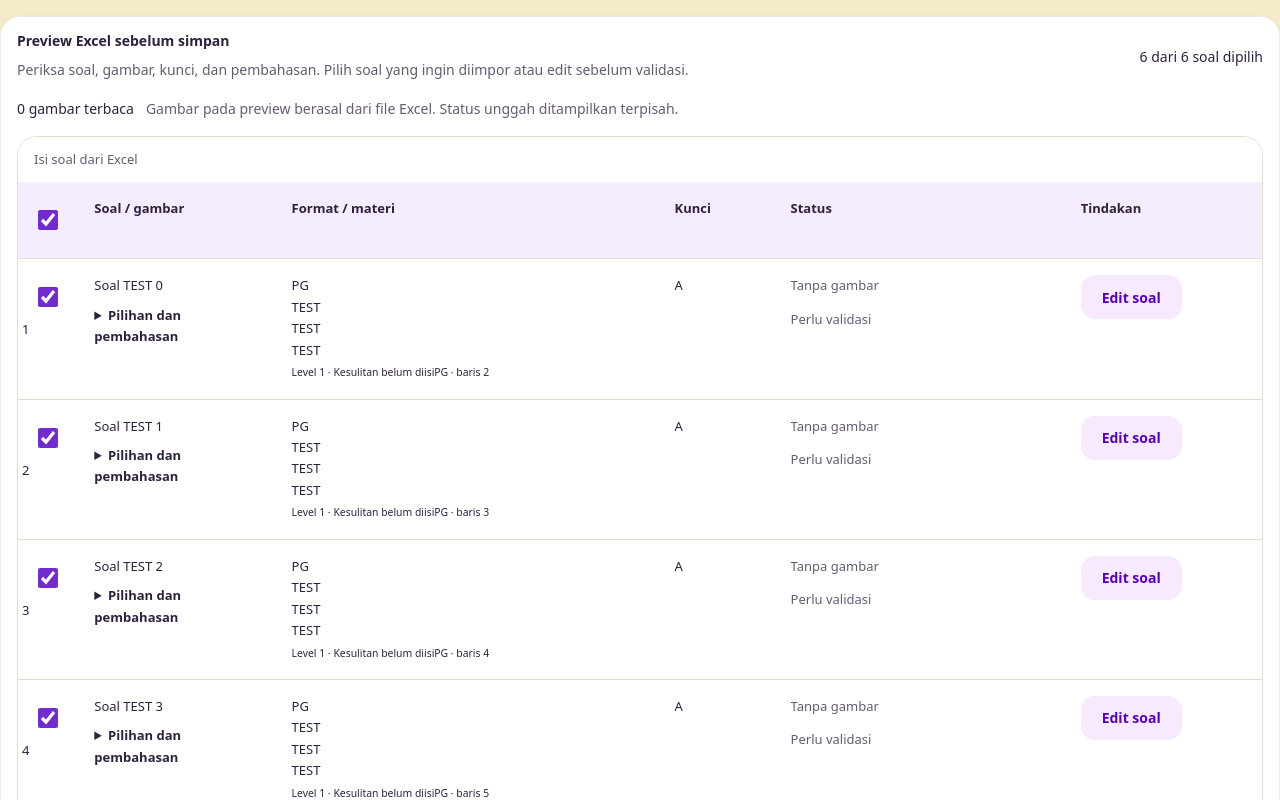
Test case: pages five Excel questions while retaining selections and protecting an open edit
The width and height of the screenshot is (1280, 800).
Click the checkbox named "Pilih soal TEST-0".
click(48, 297)  # box [38,287,58,307]
(page scrolled)
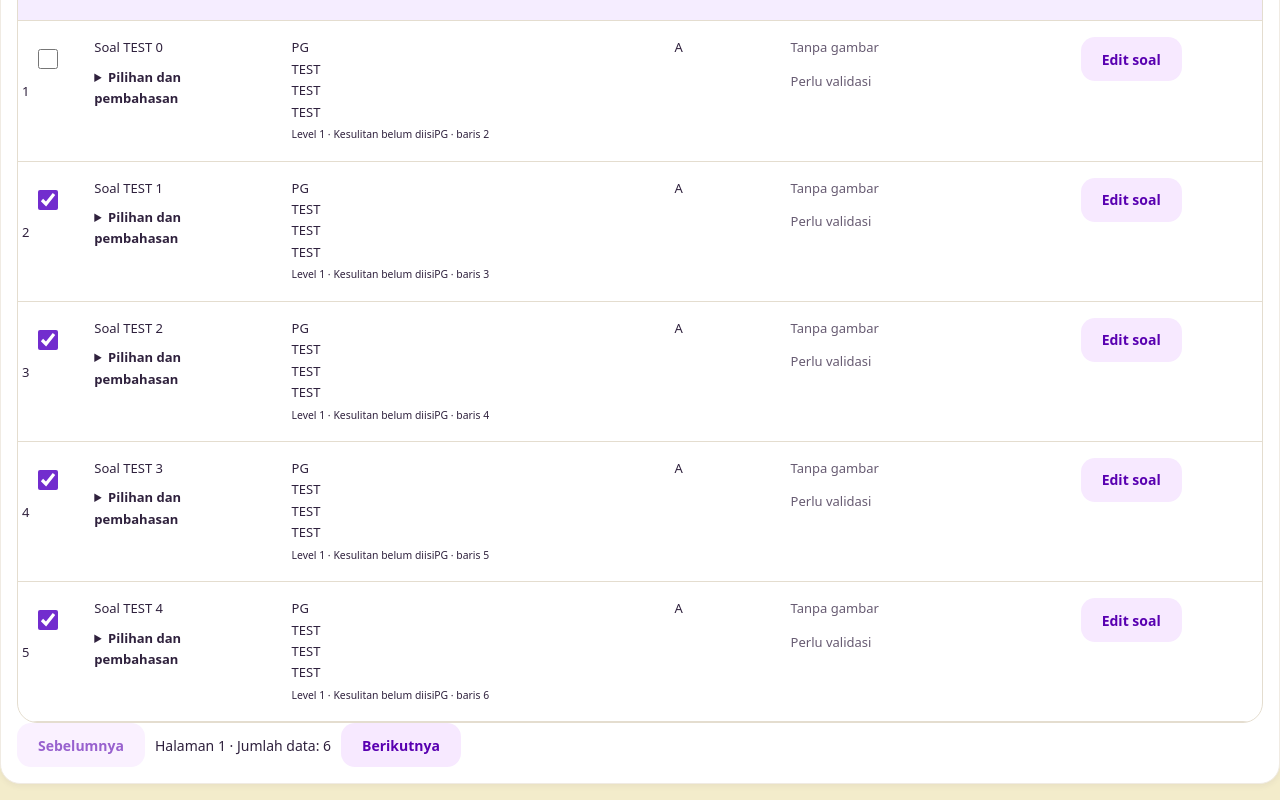
Click the button "Berikutnya".
click(401, 745)  # box [341,723,461,767]
(page scrolled)
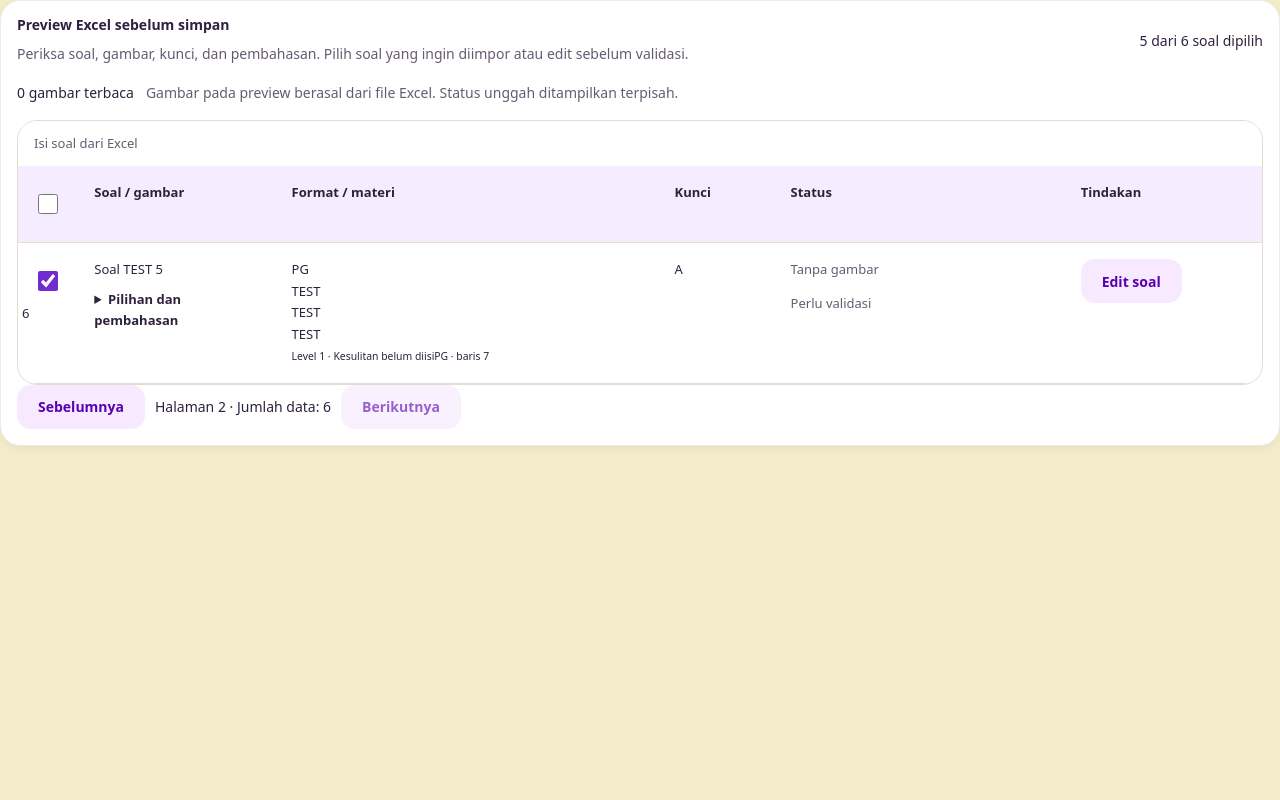
expect the number of buttons named "Edit soal TEST-" is 1: met
expect the checkbox named "Pilih soal TEST-5" is checked: met, box [38,271,58,291]
Click the button with aria-label "Edit soal TEST-5".
click(1131, 281)  # box [1081,259,1182,303]
(page scrolled)
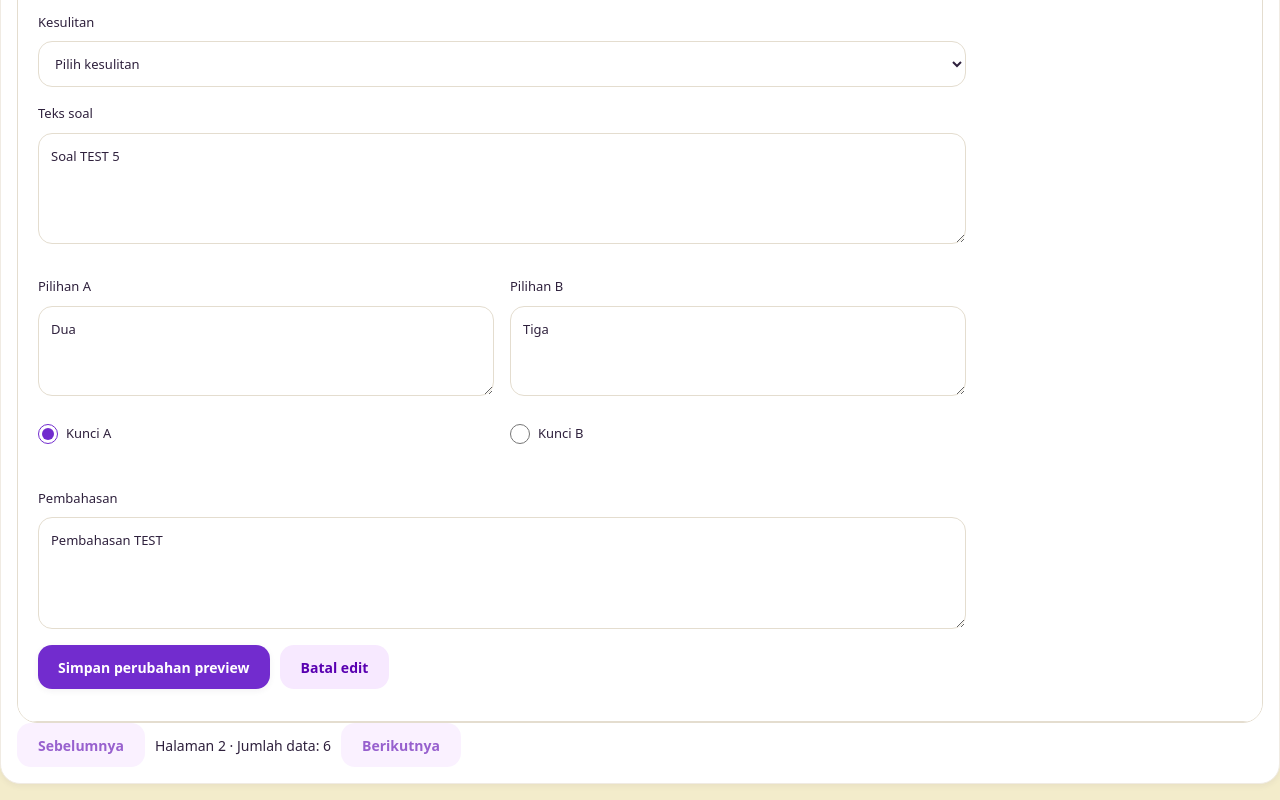
expect the button "Sebelumnya" is disabled: met, box [17,723,145,767]
Click the button "Batal edit".
click(334, 667)  # box [280,645,389,689]
(page scrolled)
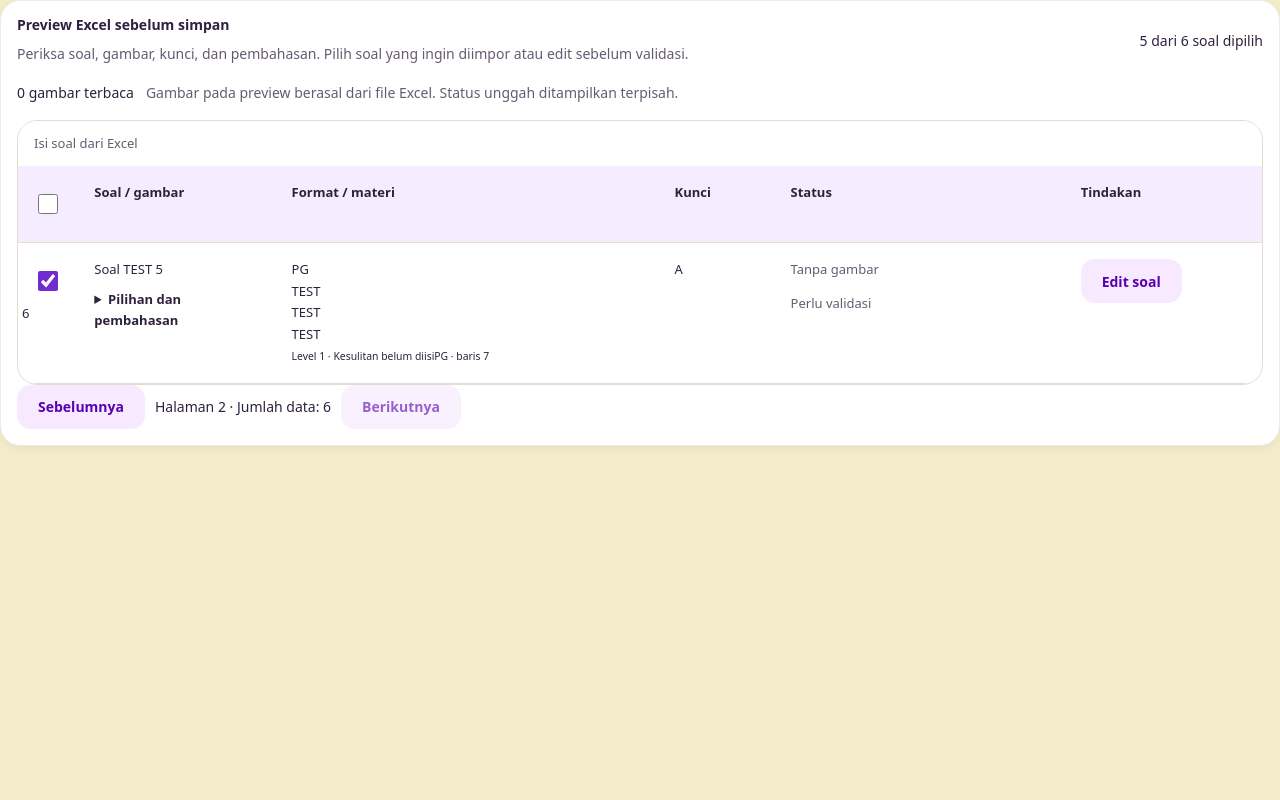
Click the button "Sebelumnya".
click(81, 407)  # box [17,385,145,429]
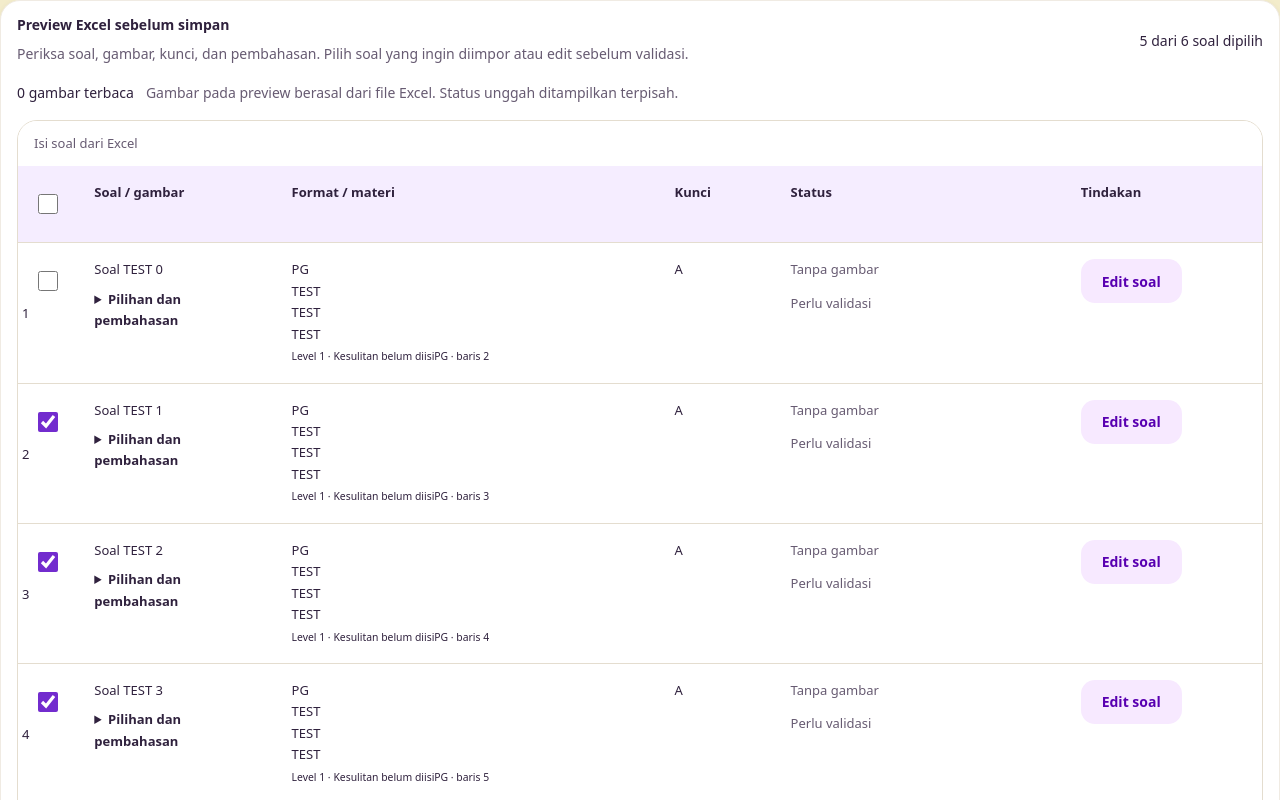
expect the checkbox named "Pilih soal TEST-0" is not checked: met, box [38,271,58,291]
